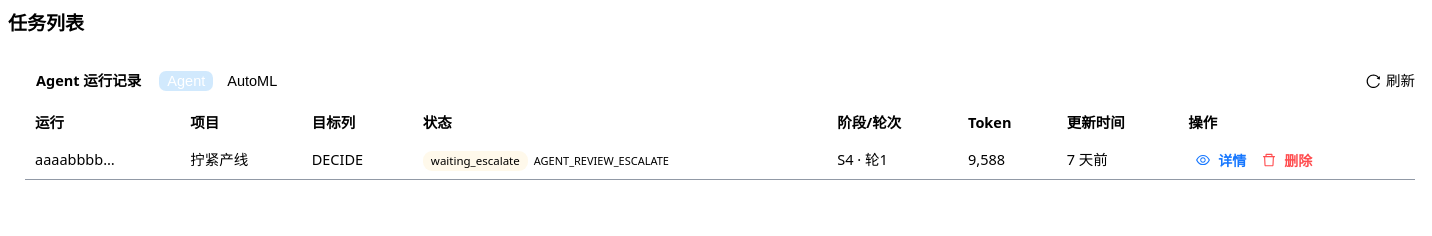
AgentCenterPage (design four-tab agent center) › shows the AutoML jobs source with live rows
Click the button "AutoML" at (252, 81), box [219, 71, 285, 91]
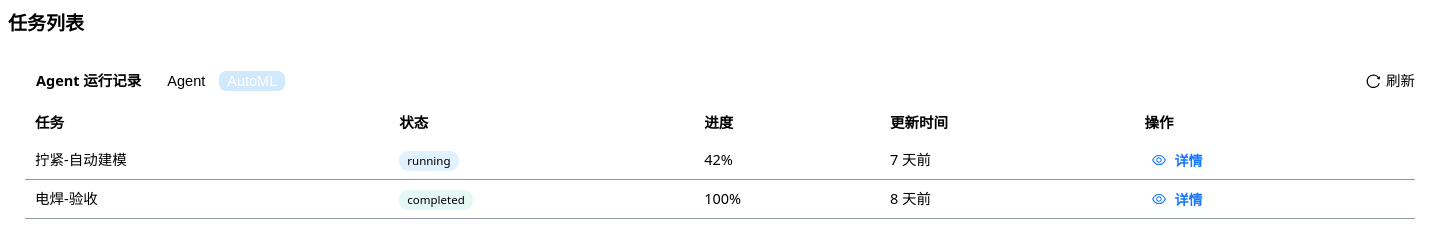
Check: the text "拧紧-自动建模" is shown, box [25, 141, 389, 179]
Check: the text "电焊-验收" is shown, box [25, 179, 389, 218]
Check: the text "42%" is shown, box [694, 141, 880, 179]
